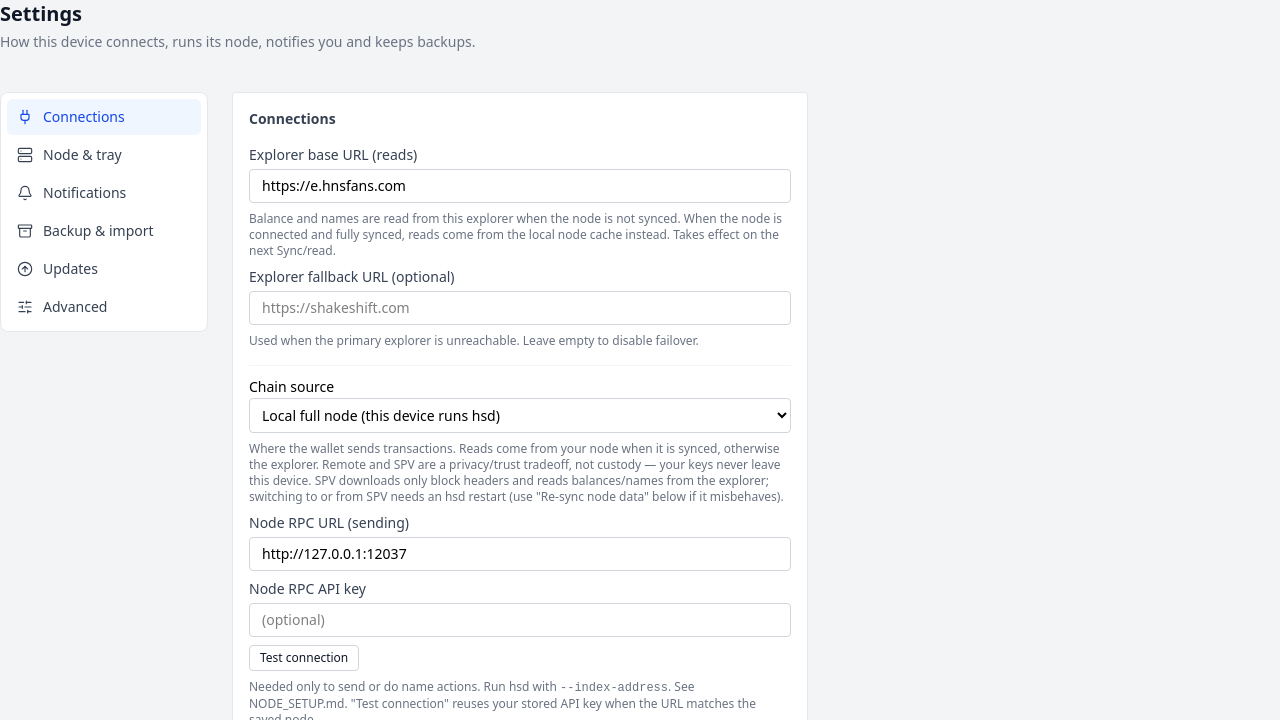
Test: Settings sections › keeps unsaved edits across a section switch
The width and height of the screenshot is (1280, 720).
Type "https://explorer.example" into the field with test id "explorer-url-input" at (520, 186), box [249,169,791,203]
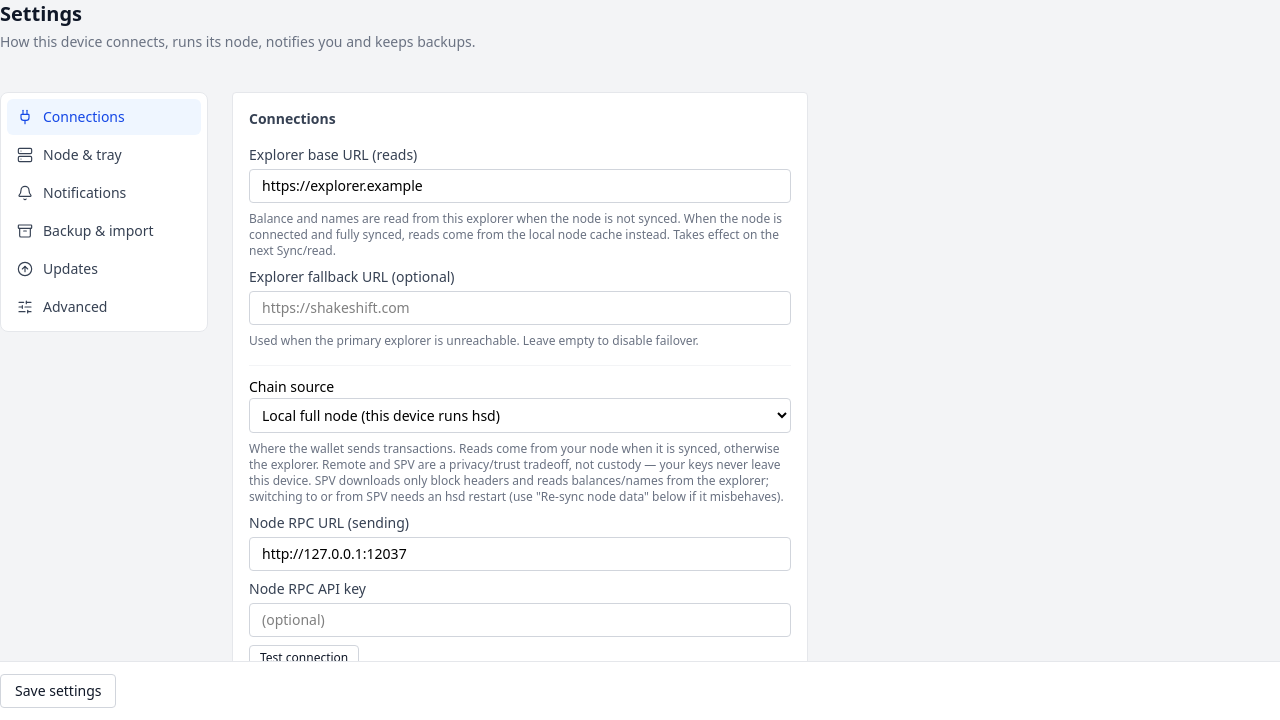
Click the button with test id "settings-section-advanced" at (104, 307), box [7,289,201,325]
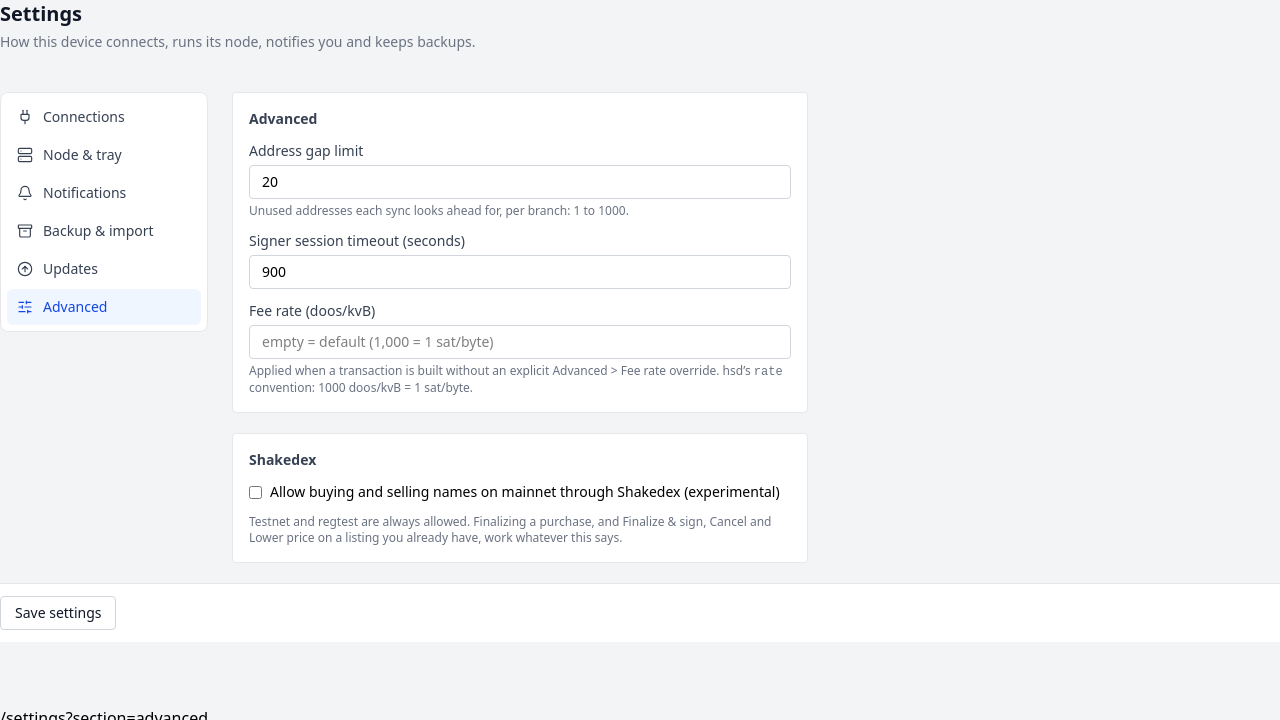
Click the button with test id "settings-section-connections" at (104, 117), box [7,99,201,135]
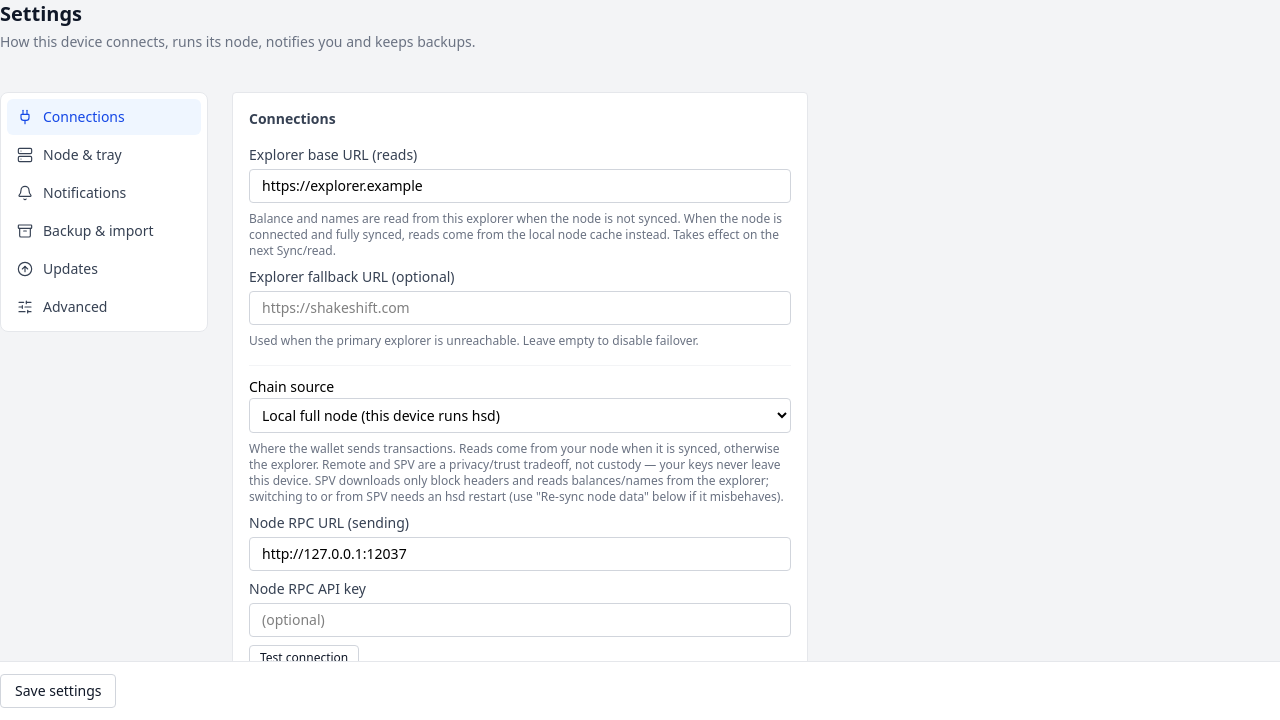
Result: the button with test id "settings-save" is shown at [0,674,116,708]
Result: the field with test id "explorer-url-input" holds "https://explorer.example" at [249,169,791,203]
